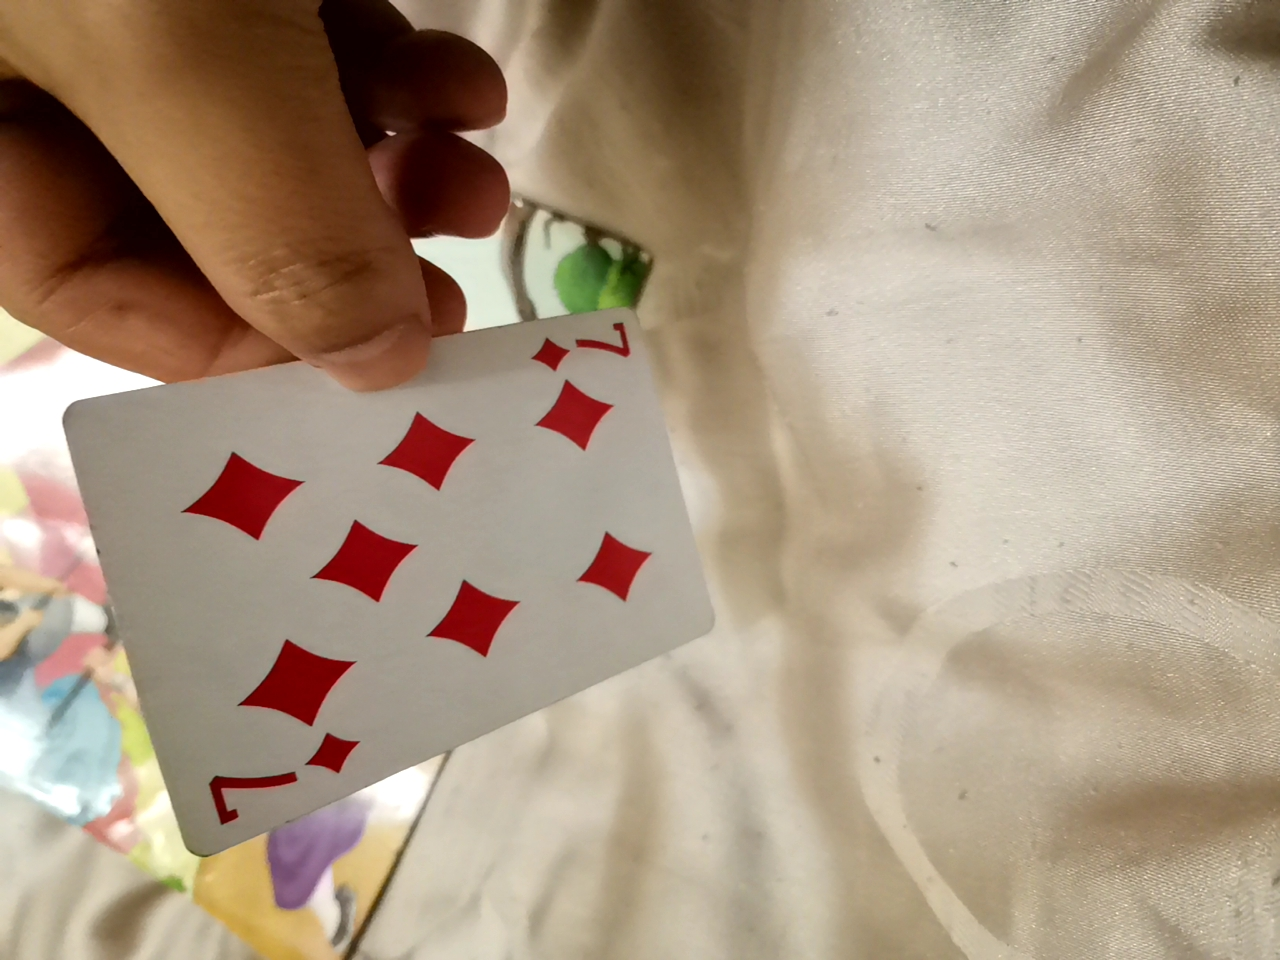fk 7: (114, 312, 720, 835)
